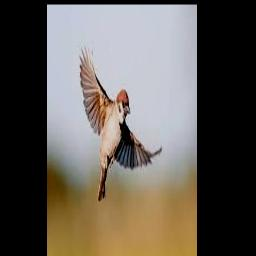Sparrow: (79, 42, 162, 201)
